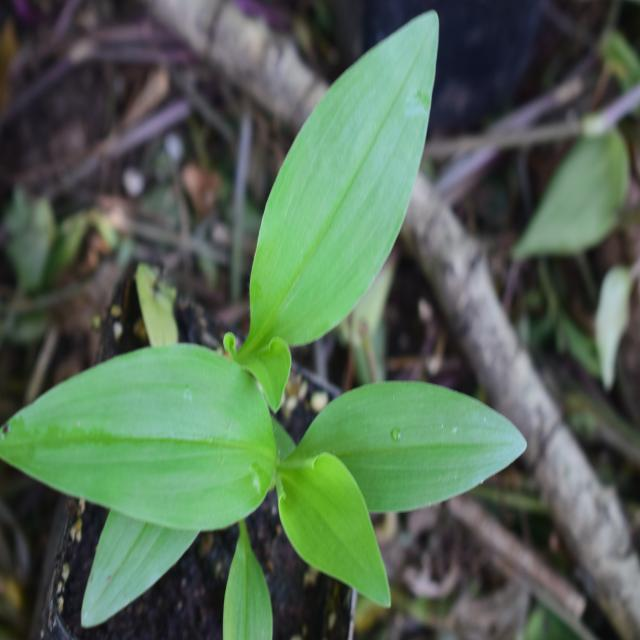Common Dayflower: (10, 311, 511, 598), (247, 14, 455, 316)
